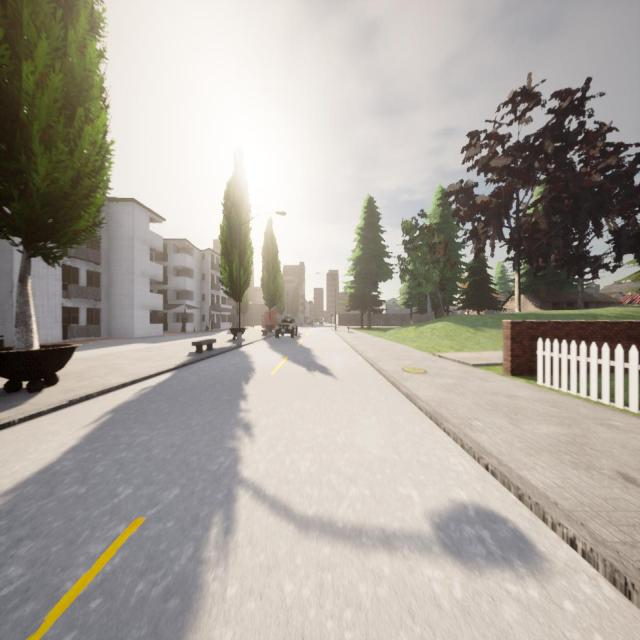Vehicle: (275, 316, 298, 338)
